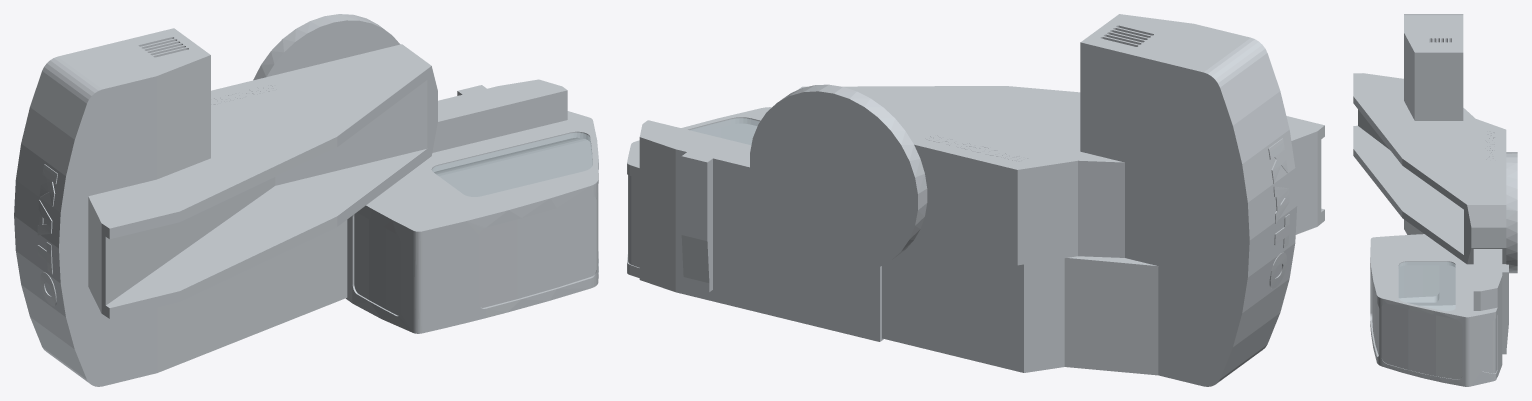
The model's file is cabin.glb.
The picture shows the model from 3 angles, left to right: view 1: azimuth 30°, elevation 25°; view 2: azimuth 150°, elevation 25°; view 3: azimuth 270°, elevation 25°; orthographic projection. The views are drawn at different scales.
Visible parts, largest first — view 1: cabin; view 2: cabin; view 3: cabin.
Part boxes in pixels (x1,y1,x2,y2): cabin: [14, 14, 598, 386]; cabin: [627, 14, 1324, 386]; cabin: [1353, 14, 1517, 386].
Size of the model in its own units: 5121 by 2537 by 1902.
